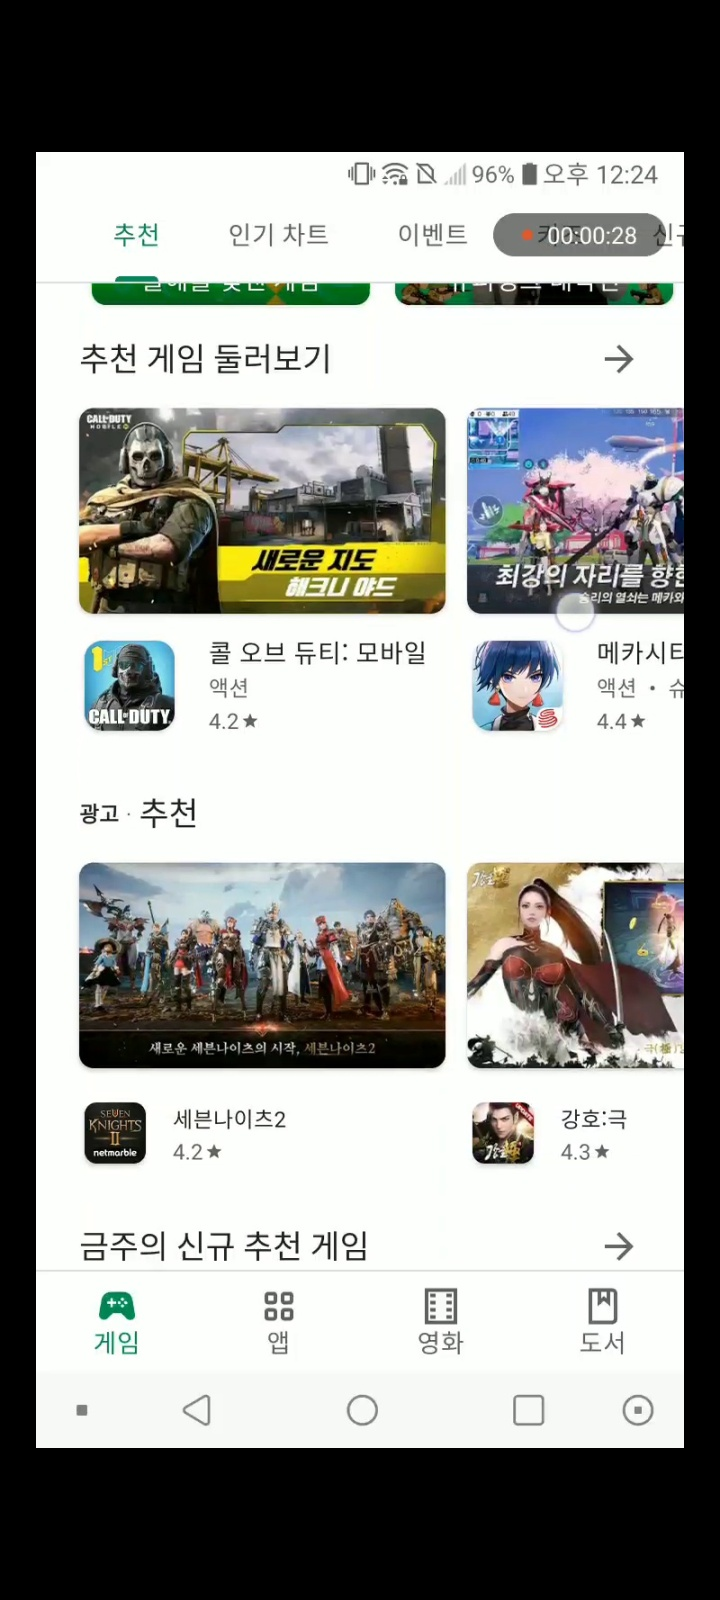Cursor: (553, 590, 598, 635)
